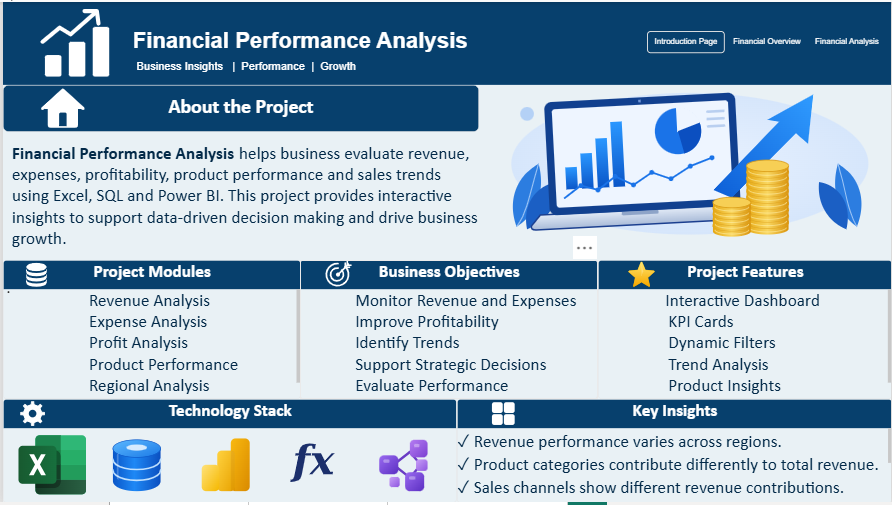

The dashboard page shown, as its layout file describes it:
{"tool":"powerbi","page":{"name":"Introduction Page","canvas":[1920,1080],"ordinal":0},"visuals":[{"type":"textbox","box":[0,0,1920,178.9],"z":0},{"type":"textbox","box":[168.5,105.8,624.9,73.1],"z":1000},{"type":"textbox","box":[0,178.9,1028,100.8],"z":2000},{"type":"textbox","box":[20.2,302.4,1007.9,254.5],"z":3000},{"type":"image","box":[1048.2,178.9,871.8,340.2],"z":4000},{"type":"textbox","title":"Project Modules","box":[0,556.9,642.5,299.8],"z":5000},{"type":"textbox","title":"Business  Objectives","box":[642.5,556.9,642.5,299.8],"z":6000},{"type":"textbox","title":"Project Features","box":[1285,556.9,635,299.8],"z":7000},{"type":"textbox","title":"Technology Stack","box":[0,856.7,980.2,224.3],"z":8000},{"type":"image","box":[20.2,927.2,173.9,146.1],"z":9000},{"type":"image","box":[194,927.2,189,146.1],"z":10000},{"type":"image","box":[383,927.2,196.5,146.1],"z":11000},{"type":"image","box":[579.5,927.2,191.5,146.1],"z":12000},{"type":"image","box":[771,927.2,189,146.1],"z":13000},{"type":"textbox","title":"Key Insights","box":[980.2,856.7,939.8,224.3],"z":14000},{"type":"image","box":[0,0,320,178.9],"z":15000},{"type":"image","box":[37.8,556.9,70.6,63],"z":16000},{"type":"image","box":[675.3,556.9,95.7,63],"z":17000},{"type":"image","box":[20.2,856.7,88.2,63],"z":18000},{"type":"image","box":[1332.9,556.9,93.2,63],"z":19000},{"type":"image","box":[1028,856.7,105.8,63],"z":20000},{"type":"image","box":[65.5,178.9,128.5,100.8],"z":21000},{"type":"actionButton","box":[1559.5,62.6,181.4,47.5],"z":21001,"group":"g1"},{"type":"actionButton","box":[1391,62.6,168.5,47.5],"z":21002,"group":"g1"},{"type":"actionButton","box":[1740.9,62.6,164.2,47.5],"z":21003,"group":"g1"},{"type":"group","id":"g1","title":"Group 1","box":[1391,62.6,514.1,47.5],"z":21004}]}

Visuals, with their boxes in screenshot pixels (x1, y1, x2, y2), scaled from the page's 1920x1080 canvas onto the 892x505 screenshot:
textbox: [0,0,891,84]
textbox: [78,49,369,84]
textbox: [0,84,478,131]
textbox: [9,141,478,260]
image: [487,84,891,243]
"Project Modules" textbox: [0,260,298,401]
"Business  Objectives" textbox: [298,260,597,401]
"Project Features" textbox: [597,260,891,401]
"Technology Stack" textbox: [0,401,455,504]
image: [9,434,90,502]
image: [90,434,178,502]
image: [178,434,269,502]
image: [269,434,358,502]
image: [358,434,446,502]
"Key Insights" textbox: [455,401,891,504]
image: [0,0,149,84]
image: [18,260,50,290]
image: [314,260,358,290]
image: [9,401,50,430]
image: [619,260,663,290]
image: [478,401,527,430]
image: [30,84,90,131]
actionButton: [725,29,809,51]
actionButton: [646,29,725,51]
actionButton: [809,29,885,51]
"Group 1" group: [646,29,885,51]
